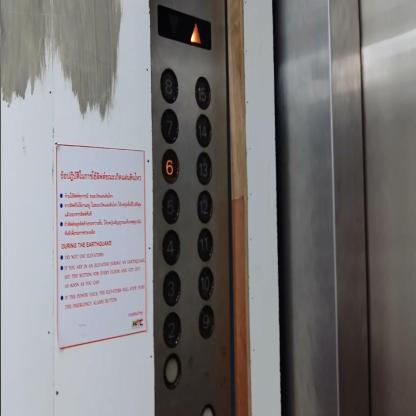10: (197, 266, 214, 300)
11: (197, 226, 213, 261)
12: (195, 188, 213, 224)
13: (195, 149, 212, 185)
14: (194, 112, 212, 148)
15: (194, 74, 212, 110)
2: (163, 309, 181, 346)
3: (162, 269, 181, 307)
4: (162, 229, 180, 264)
5: (162, 189, 180, 222)
6: (160, 148, 180, 183)
7: (161, 107, 179, 144)
8: (160, 67, 178, 103)
9: (198, 304, 214, 338)
empty: (162, 351, 181, 390)
led: (157, 4, 212, 50)
